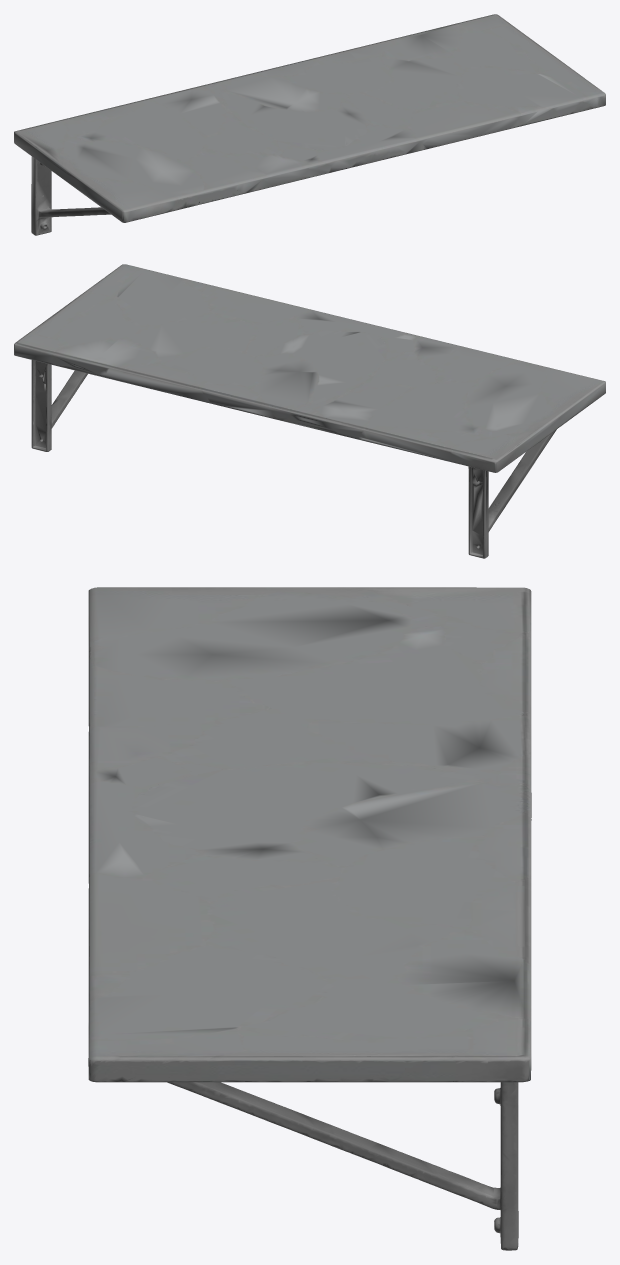
Rendered from bracket-shelf.glb.
The picture shows the model from 3 angles, top to bottom: view 1: azimuth 30°, elevation 25°; view 2: azimuth 150°, elevation 25°; view 3: azimuth 270°, elevation 25°; orthographic projection. The views are drawn at different scales.
Parts seen in each view (by area): view 1: material; view 2: material; view 3: material.
Part boxes in pixels (left/top/right/bottom): material: left=14, top=14, right=605, bottom=235; material: left=14, top=264, right=605, bottom=558; material: left=88, top=587, right=531, bottom=1250.
Bounding box in the file's own units: 1.15 × 0.2359 × 0.4554.
1 material, 1 textured.
